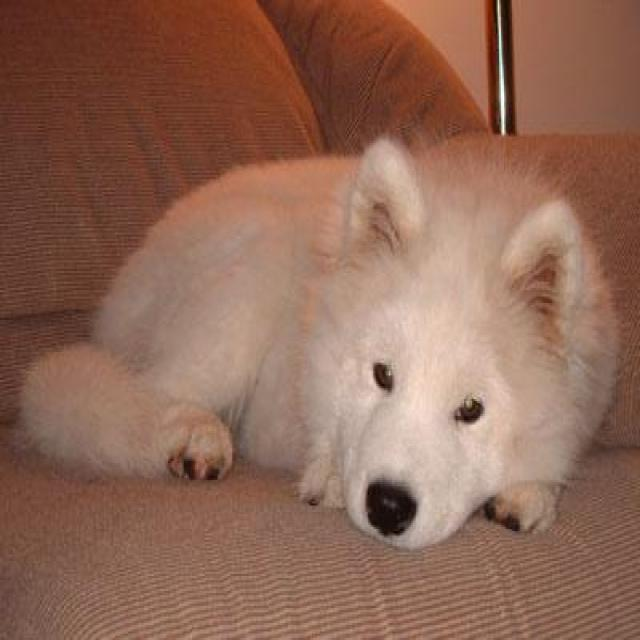relax: (31, 122, 630, 563)
